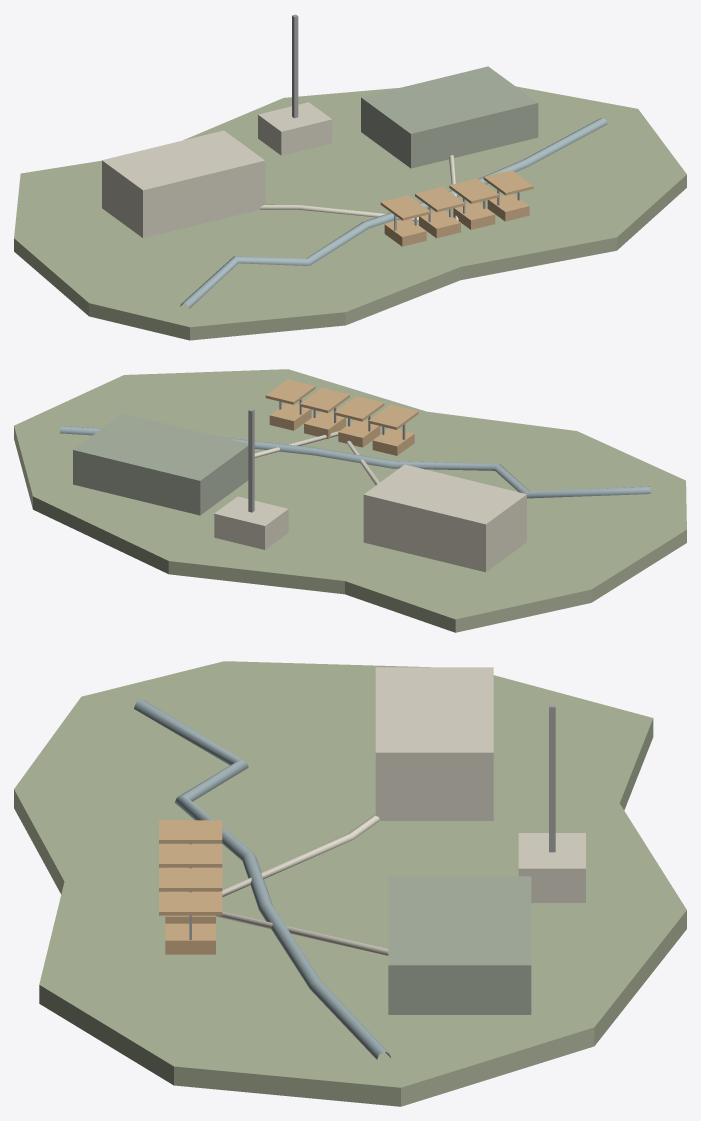
File: kalinda_reference.glb
3 views of the same model, one above another, from view 1: azimuth 30°, elevation 25°; view 2: azimuth 150°, elevation 25°; view 3: azimuth 270°, elevation 25° (orthographic). The views are drawn at different scales.
Visible parts, largest first — view 1: KAL_Base, KAL_Government, KAL_Barracks, KAL_River, KAL_Radio, KAL_Road, KAL_Stall_01, KAL_Stall_04, KAL_Stall_03, KAL_Stall_02, KAL_Canopy_04, KAL_Canopy_01 (+3 smaller); view 2: KAL_Base, KAL_Government, KAL_Barracks, KAL_River, KAL_Radio, KAL_Stall_01, KAL_Stall_04, KAL_Stall_02, KAL_Canopy_02, KAL_Stall_03, KAL_Canopy_04, KAL_Canopy_01 (+3 smaller); view 3: KAL_Base, KAL_Barracks, KAL_Government, KAL_River, KAL_Radio, KAL_Road, KAL_Stall_04, KAL_Canopy_01, KAL_Canopy_02, KAL_Canopy_03, KAL_Canopy_04, KAL_Mast.
Part boxes in pixels (left/top/right/bottom): KAL_Base: left=14, top=86, right=686, bottom=340; KAL_Government: left=102, top=130, right=265, bottom=238; KAL_Barracks: left=361, top=66, right=538, bottom=168; KAL_River: left=180, top=118, right=607, bottom=308; KAL_Radio: left=258, top=102, right=332, bottom=155; KAL_Road: left=260, top=155, right=458, bottom=221; KAL_Stall_01: left=384, top=219, right=426, bottom=246; KAL_Stall_04: left=487, top=194, right=529, bottom=221; KAL_Stall_03: left=453, top=202, right=495, bottom=229; KAL_Stall_02: left=419, top=210, right=460, bottom=238; KAL_Canopy_04: left=483, top=170, right=533, bottom=195; KAL_Canopy_01: left=380, top=195, right=430, bottom=220; KAL_Base: left=14, top=369, right=686, bottom=632; KAL_Government: left=363, top=464, right=526, bottom=572; KAL_Barracks: left=73, top=413, right=248, bottom=515; KAL_River: left=60, top=426, right=650, bottom=498; KAL_Radio: left=214, top=496, right=288, bottom=549; KAL_Stall_01: left=372, top=428, right=414, bottom=455; KAL_Stall_04: left=269, top=403, right=311, bottom=430; KAL_Stall_02: left=338, top=420, right=380, bottom=447; KAL_Canopy_02: left=334, top=396, right=384, bottom=421; KAL_Stall_03: left=304, top=411, right=345, bottom=439; KAL_Canopy_04: left=265, top=379, right=315, bottom=404; KAL_Canopy_01: left=368, top=404, right=418, bottom=429; KAL_Base: left=14, top=661, right=686, bottom=1106; KAL_Barracks: left=388, top=876, right=531, bottom=1014; KAL_Government: left=375, top=667, right=493, bottom=820; KAL_River: left=134, top=699, right=390, bottom=1059; KAL_Radio: left=518, top=833, right=585, bottom=902; KAL_Road: left=216, top=814, right=388, bottom=955; KAL_Stall_04: left=165, top=923, right=215, bottom=954; KAL_Canopy_01: left=159, top=820, right=222, bottom=843; KAL_Canopy_02: left=159, top=844, right=222, bottom=867; KAL_Canopy_03: left=159, top=868, right=222, bottom=891; KAL_Canopy_04: left=159, top=892, right=222, bottom=915; KAL_Mast: left=549, top=704, right=555, bottom=852.
Bounding box in the file's own units: 1.2 × 0.26 × 0.8.
